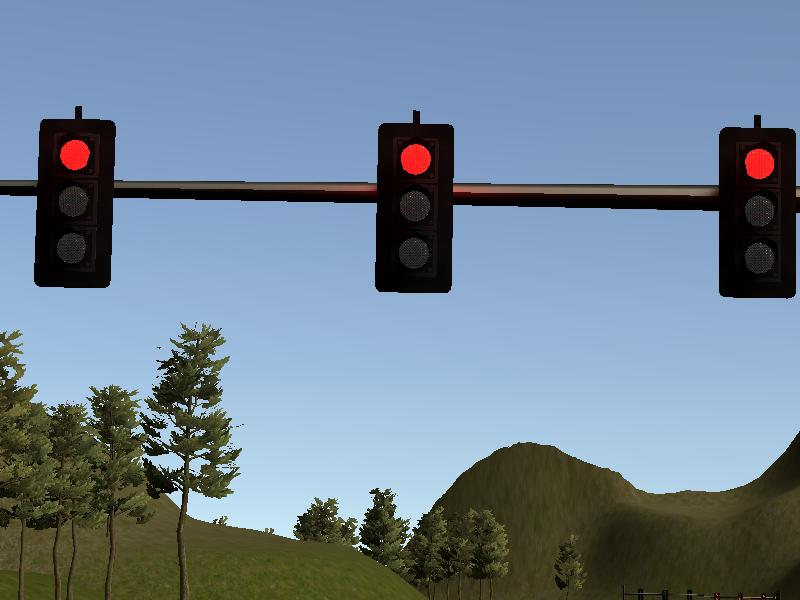red: (34, 116, 113, 290), (375, 121, 454, 295), (718, 126, 797, 299)
